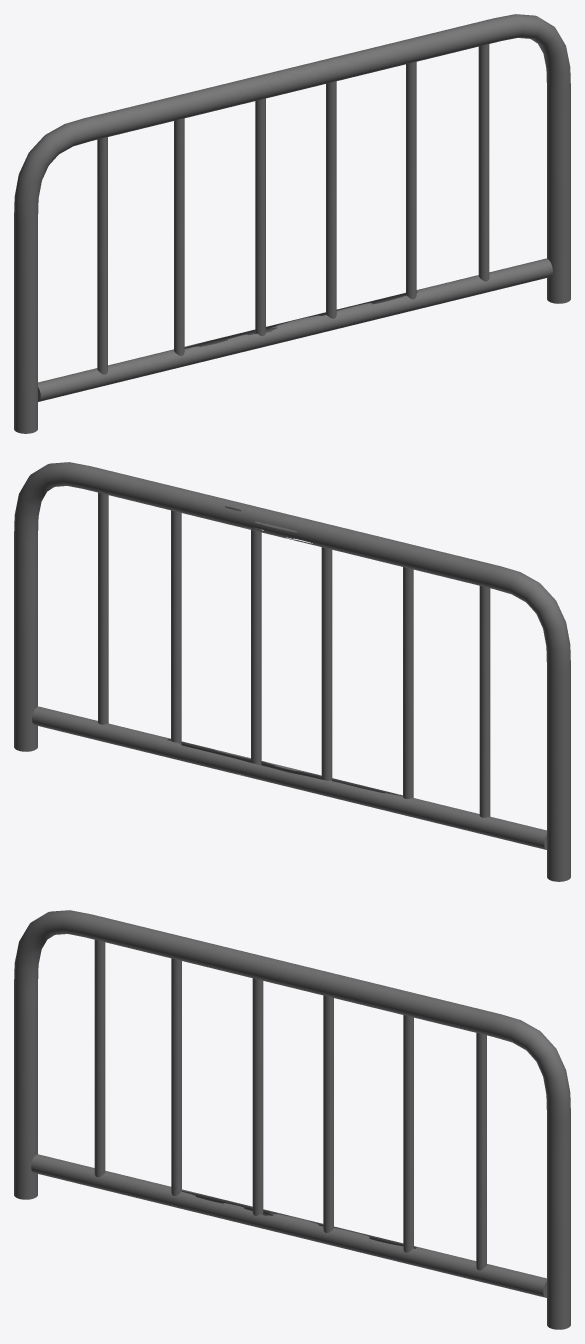
The model's file is valla_hierro.obj.
3 renders of one model, top to bottom at view 1: azimuth 30°, elevation 25°; view 2: azimuth 150°, elevation 25°; view 3: azimuth 330°, elevation 25°, orthographic.
Visible parts, largest first — view 1: polySurface2; view 2: polySurface2; view 3: polySurface2.
Boxes of the visible parts, x1,y1,x2,y2 form: polySurface2: (14, 14, 570, 433); polySurface2: (14, 462, 570, 881); polySurface2: (14, 910, 570, 1329).
Size of the model in its own units: 1.65 by 0.8416 by 0.0625.
Materials: 1 (1 with a texture image).
